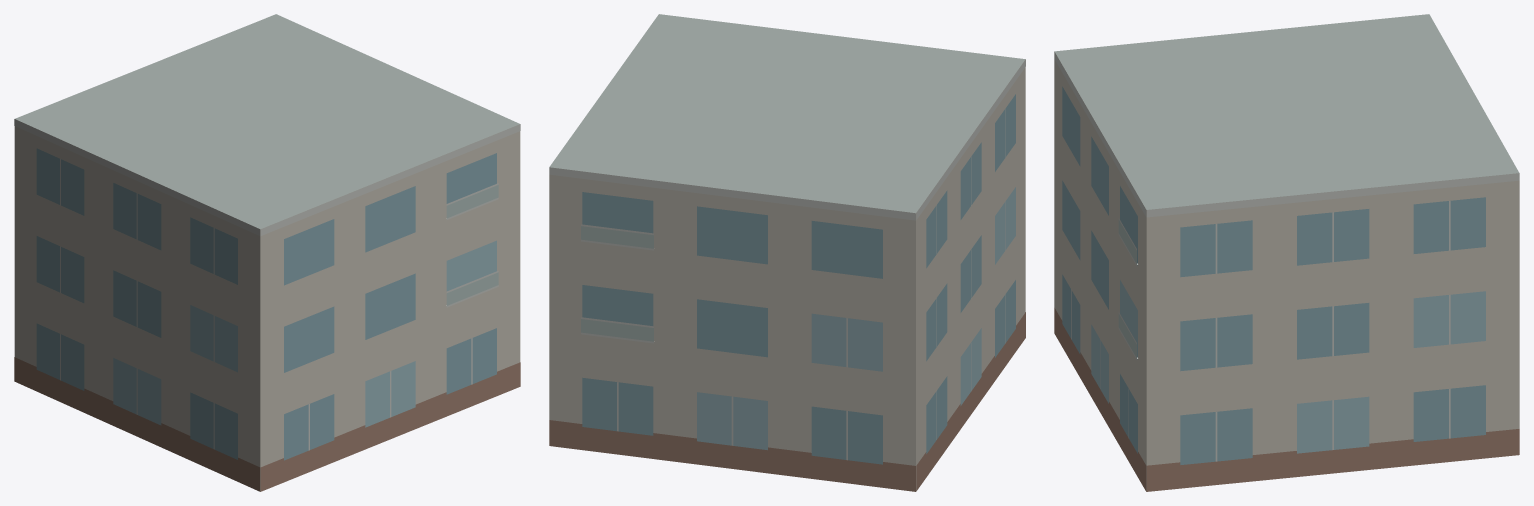
File: survey-upis-32695257.glb
3 renders of one model, left to right at view 1: azimuth 30°, elevation 25°; view 2: azimuth 150°, elevation 25°; view 3: azimuth 270°, elevation 25°, orthographic. The views are drawn at different scales.
Parts seen in each view (by area): view 1: survey-upis-32695257.tmp; view 2: survey-upis-32695257.tmp; view 3: survey-upis-32695257.tmp.
Boxes of the visible parts, x1=… form: survey-upis-32695257.tmp: x1=14, y1=14, x2=520, y2=491; survey-upis-32695257.tmp: x1=549, y1=14, x2=1025, y2=491; survey-upis-32695257.tmp: x1=1054, y1=14, x2=1519, y2=491.
Size of the model in its own units: 13.65 by 9.15 by 13.69.
